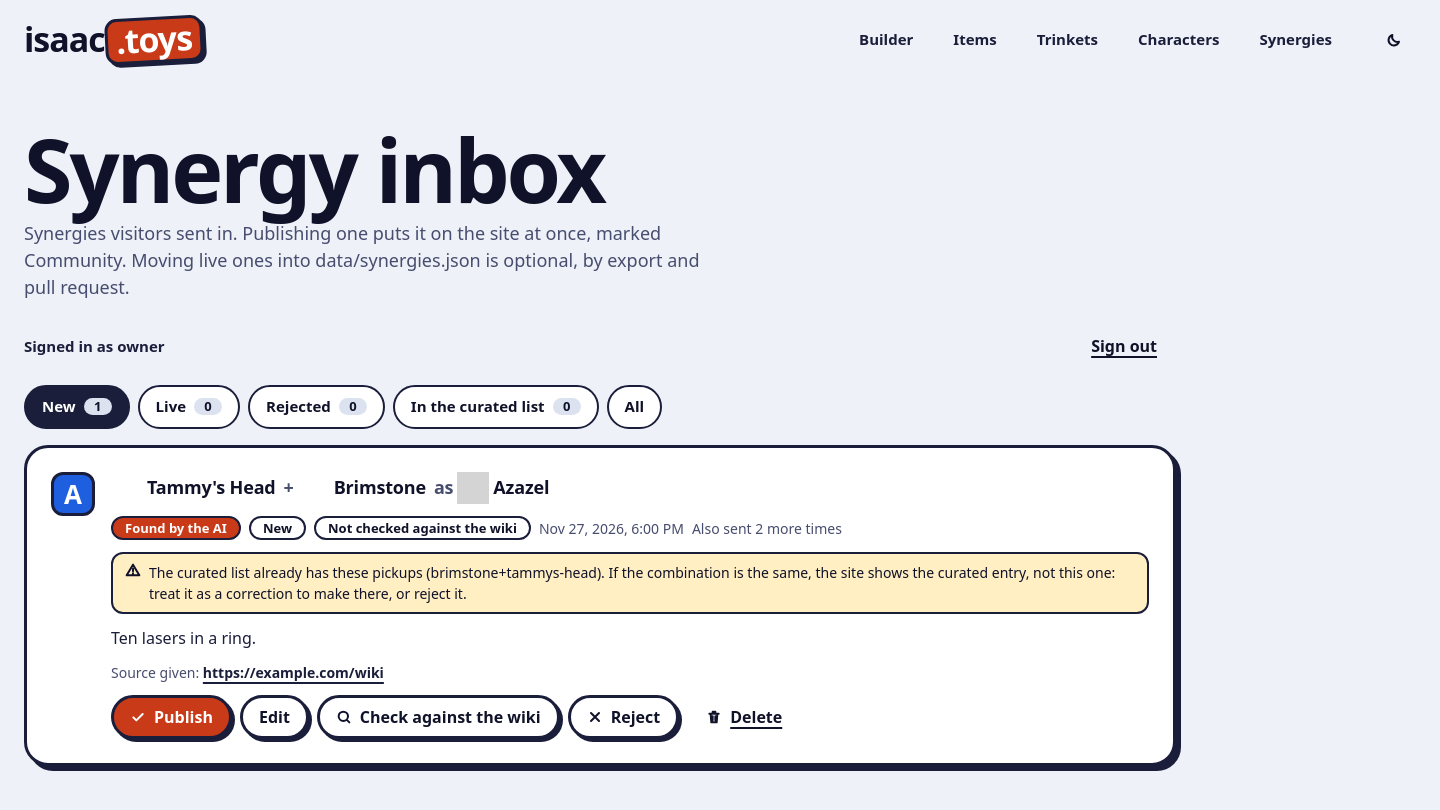
Test: admin inbox › goes back to the sign-in form when the session ends in the middle of a change
Expected: the heading "Synergy inbox" is shown, [24, 109, 604, 229]
Click the button "Publish" at (171, 718), box [111, 696, 232, 740]
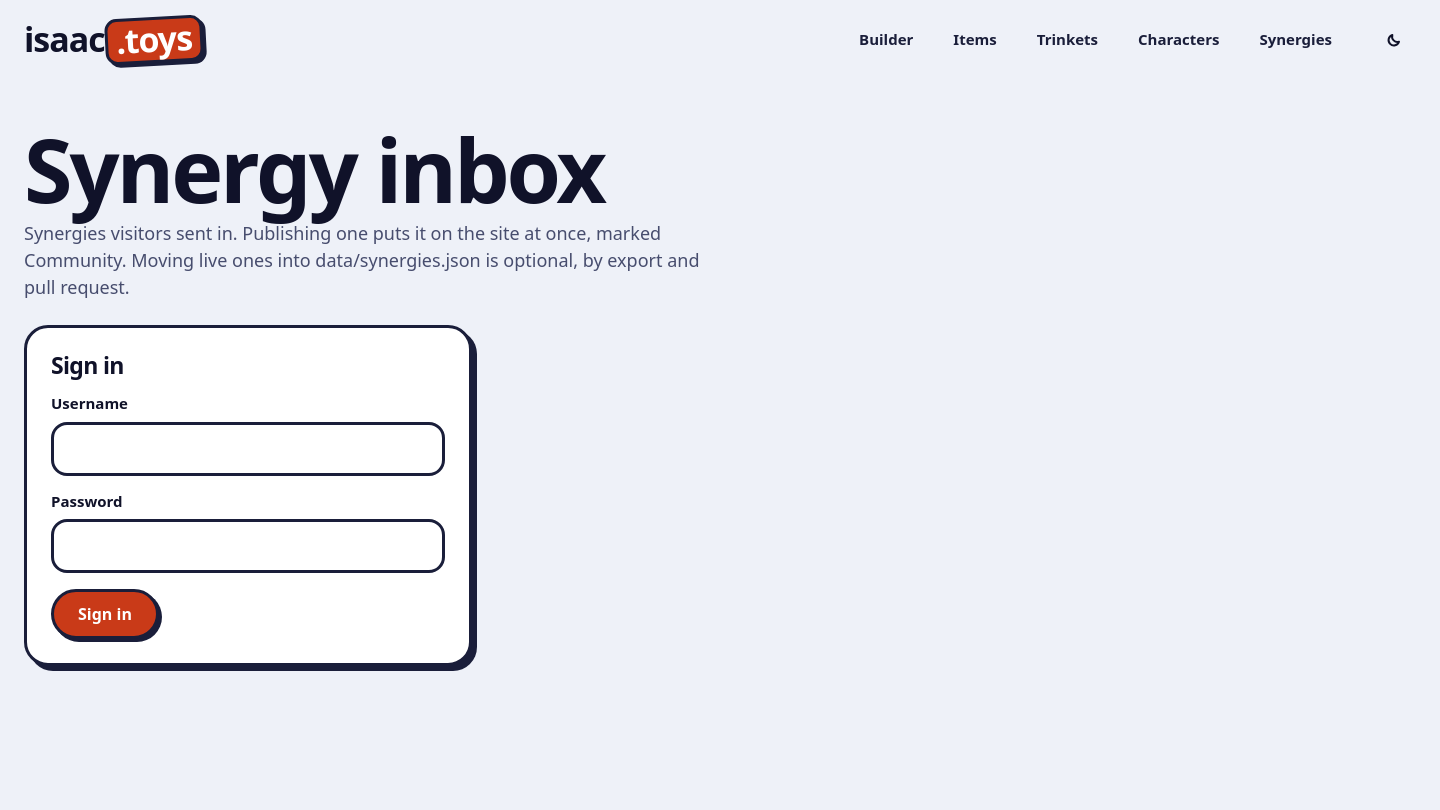
Expected: the form "Sign in" is shown, [24, 325, 472, 666]
